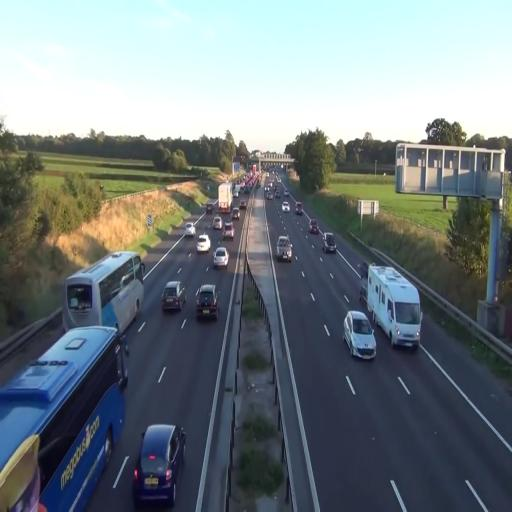vehicle: (0, 324, 127, 509), (62, 252, 144, 336), (366, 261, 422, 350), (366, 262, 422, 350), (133, 422, 187, 507), (342, 310, 376, 362), (195, 285, 219, 322), (161, 280, 185, 314), (276, 235, 294, 262), (218, 180, 232, 212), (213, 246, 229, 269), (323, 233, 337, 253), (196, 234, 210, 254)
